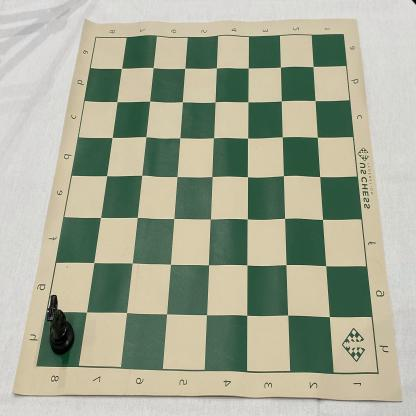black-knight: (47, 294, 75, 356)
